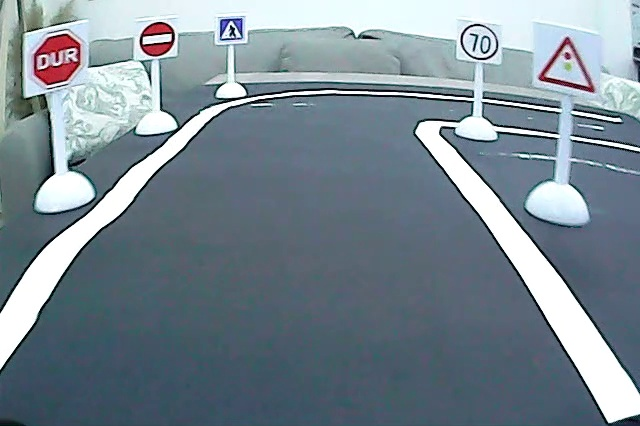do not enter: (138, 19, 178, 60)
pedestrian crossing: (217, 15, 245, 44)
red light: (532, 29, 600, 100)
speed limit 70: (458, 20, 500, 63)
stop sign: (28, 25, 87, 93)
